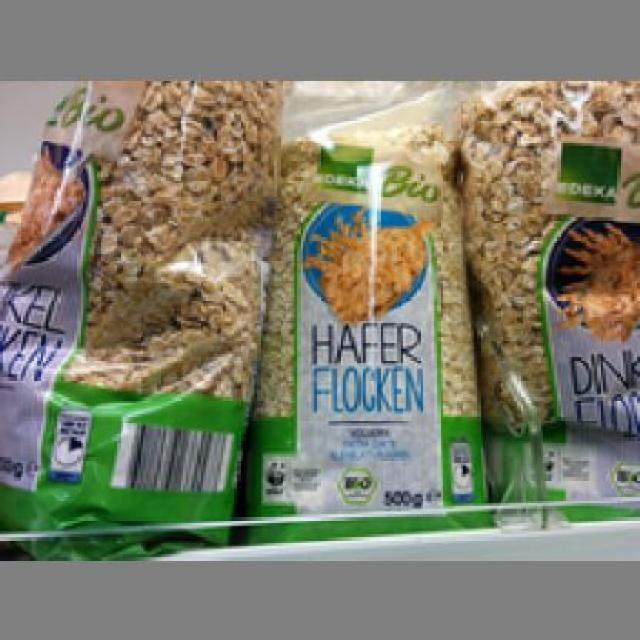Cereal: (0, 79, 263, 512), (254, 136, 486, 530), (460, 80, 629, 497)
